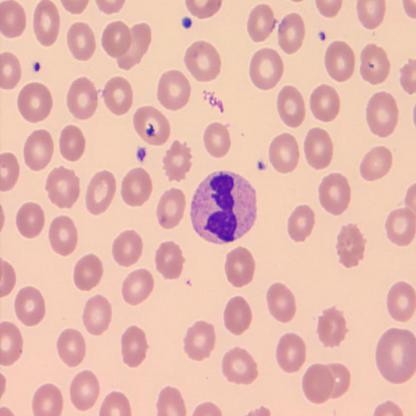Segmented neutrophil: (188, 168, 258, 247)
